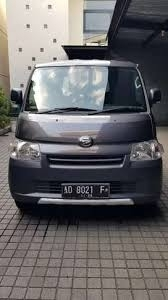plate: (62, 184, 110, 197)
